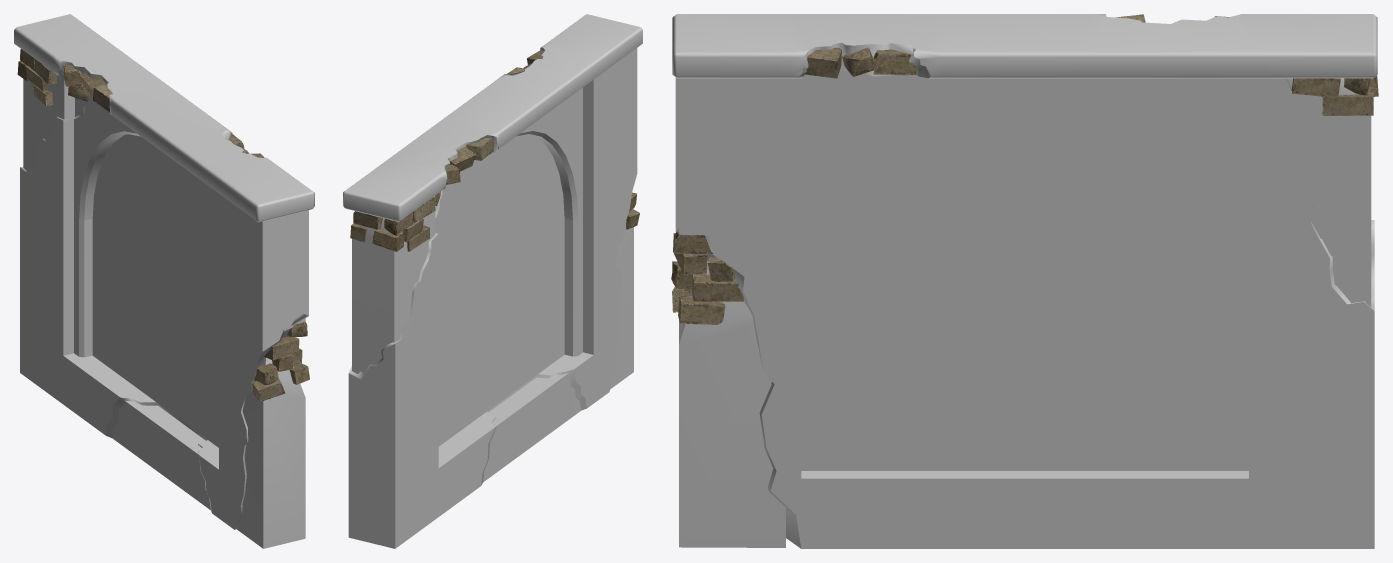
The model's file is Wall1_el3.fbx.
3 views of the same model, side by side, from view 1: azimuth 30°, elevation 25°; view 2: azimuth 150°, elevation 25°; view 3: azimuth 270°, elevation 25° (orthographic). The views are drawn at different scales.
Visible parts, largest first — view 1: polySurface205; view 2: polySurface205; view 3: polySurface205.
Part boxes in pixels (bbox=[...]): polySurface205: bbox=[14, 14, 314, 548]; polySurface205: bbox=[343, 14, 642, 548]; polySurface205: bbox=[671, 14, 1378, 548].
Bounding box in the file's own units: 0.6098 × 3.16 × 4.05.
